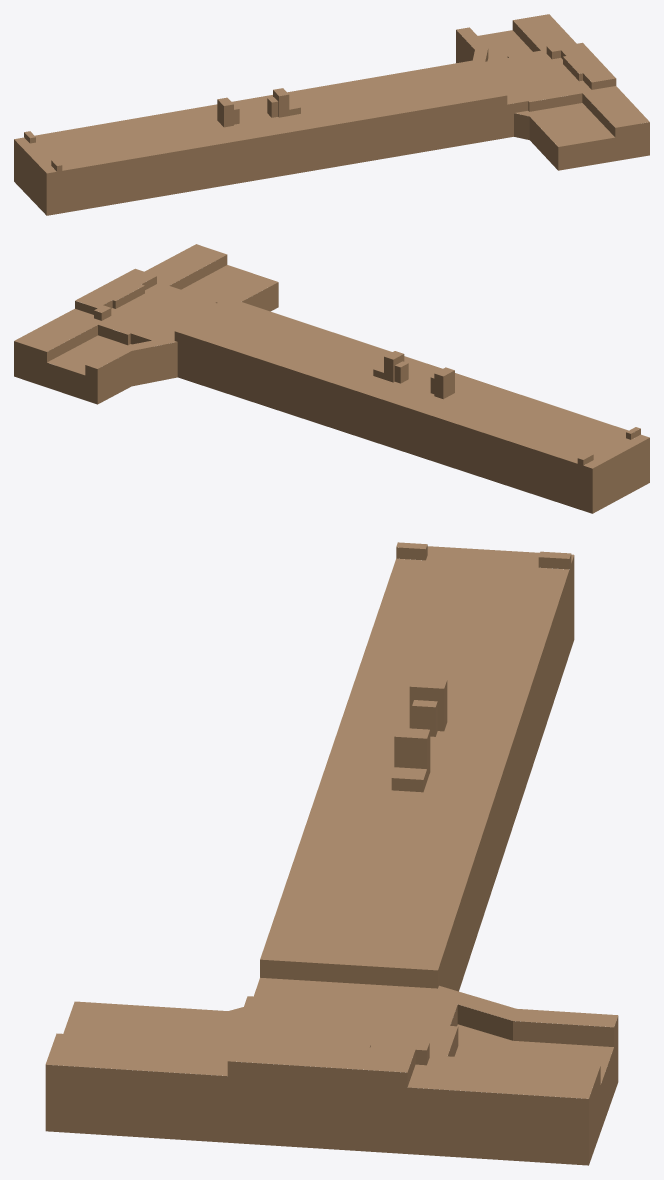
The model's file is tile--6_-8.glb.
The picture shows the model from 3 angles, top to bottom: view 1: azimuth 30°, elevation 25°; view 2: azimuth 150°, elevation 25°; view 3: azimuth 270°, elevation 25°; orthographic projection. The views are drawn at different scales.
Parts seen in each view (by area): view 1: roof, wall; view 2: roof, wall; view 3: roof, wall.
Part boxes in pixels (x1,y1,x2,y2): roof: (14,14,649,173); wall: (14,20,649,215); roof: (14,244,649,468); wall: (14,255,649,513); roof: (45,542,618,1098); wall: (45,544,618,1165).
Bounding box in the file's own units: 261 × 28.92 × 118.
